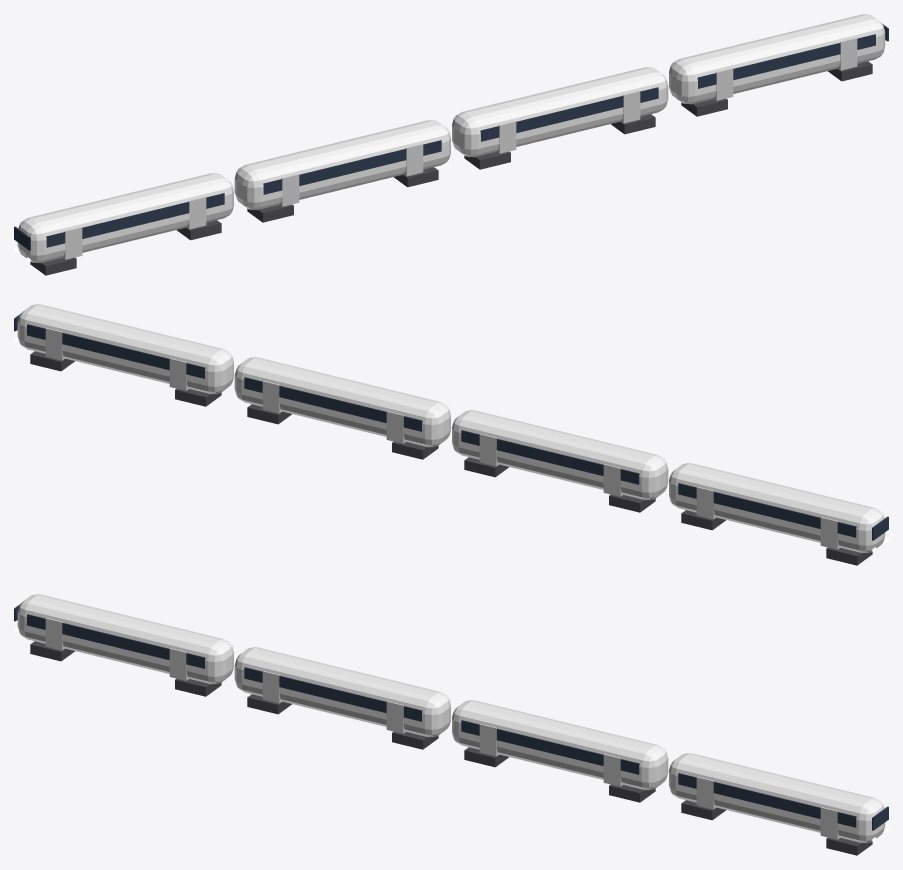
File: train_tube.glb
3 renders of one model, top to bottom at view 1: azimuth 30°, elevation 25°; view 2: azimuth 150°, elevation 25°; view 3: azimuth 330°, elevation 25°, orthographic.
Parts seen in each view (by area): view 1: train_tube; view 2: train_tube; view 3: train_tube.
Boxes of the visible parts, x1,y1,x2,y2 form: train_tube: (14,14,888,275); train_tube: (14,304,888,565); train_tube: (14,594,888,855).
Bounding box in the file's own units: 66.52 × 3.7 × 2.66.
